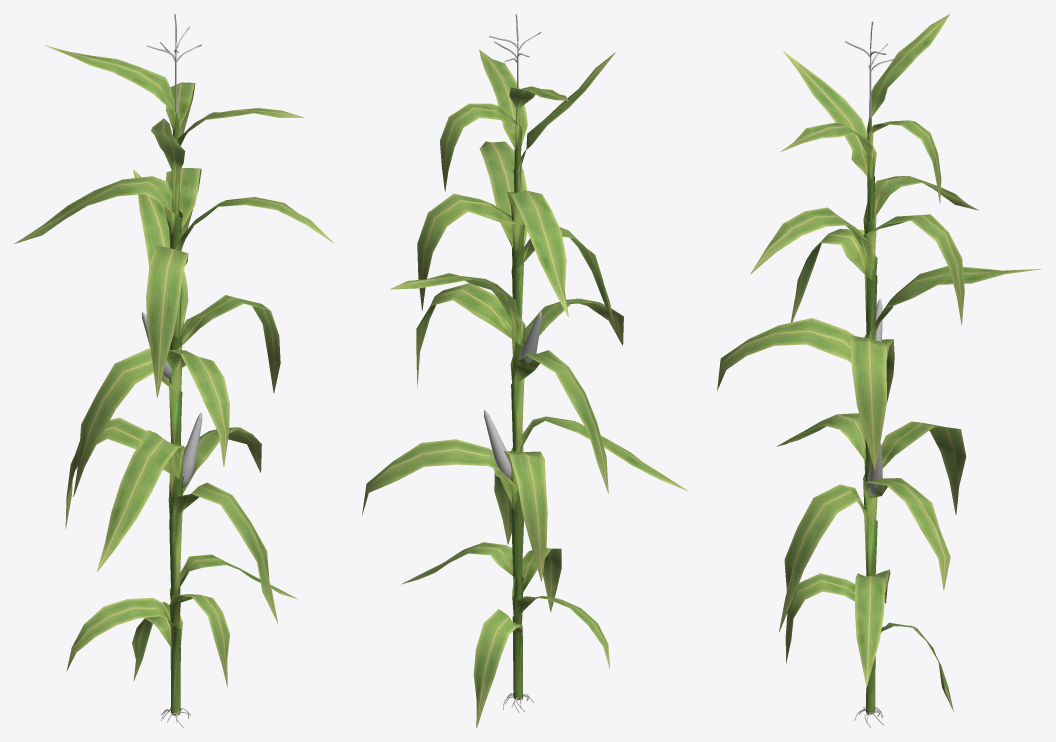
Rendered from millets.fbx.
3 views of the same model, side by side, from view 1: azimuth 30°, elevation 25°; view 2: azimuth 150°, elevation 25°; view 3: azimuth 270°, elevation 25° (orthographic).
Parts seen in each view (by area): view 1: Plane.040; view 2: Plane.040; view 3: Plane.040.
Part boxes in pixels (<box>): Plane.040: <box>14,14,333,727</box>; Plane.040: <box>362,14,688,727</box>; Plane.040: <box>717,14,1041,727</box>.
Bounding box in the file's own units: 97.52 × 265 × 111.
